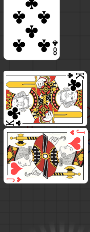8C: (52, 38, 59, 56)
JH: (6, 175, 23, 183)
